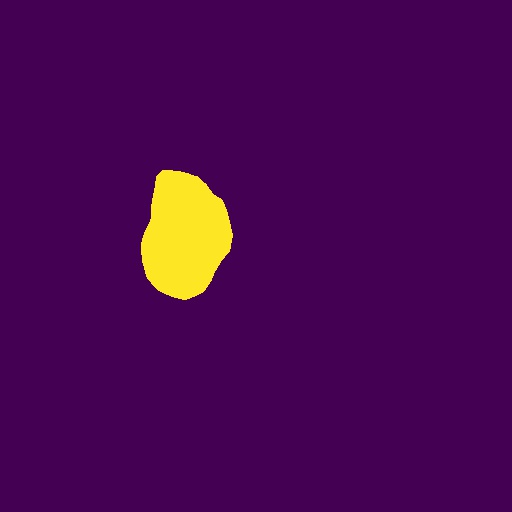Gliomia_tumour: (141, 170, 233, 300)
